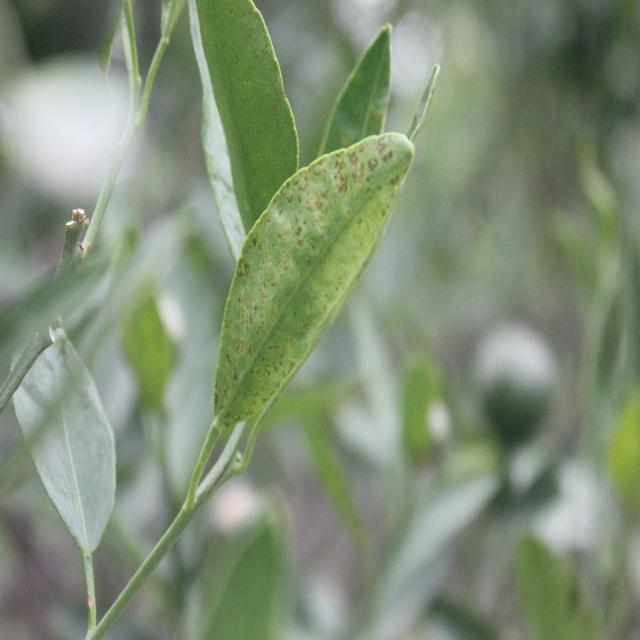canker: (195, 132, 413, 435)
